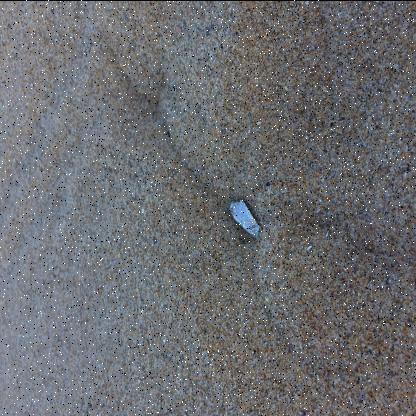metal: (229, 198, 259, 238)
